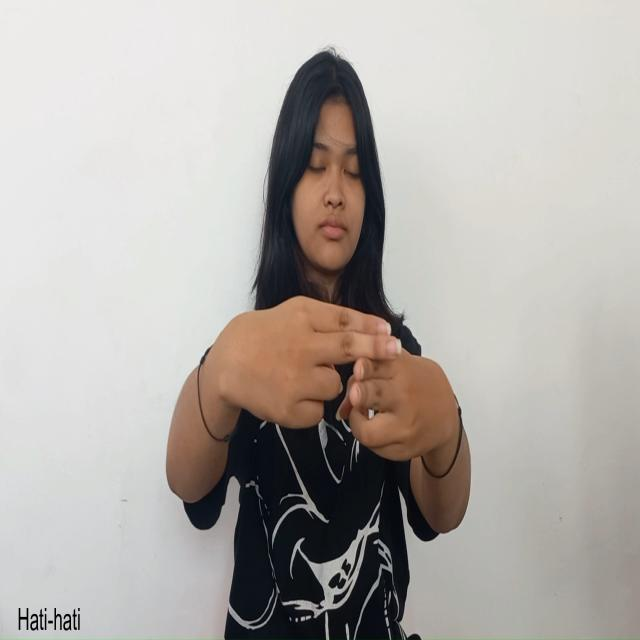Hati-hati -BISINDO-: (222, 295, 456, 465)
